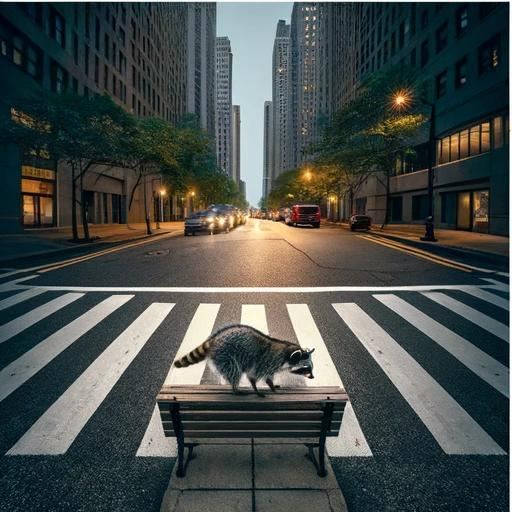raccoon: (170, 319, 323, 399)
